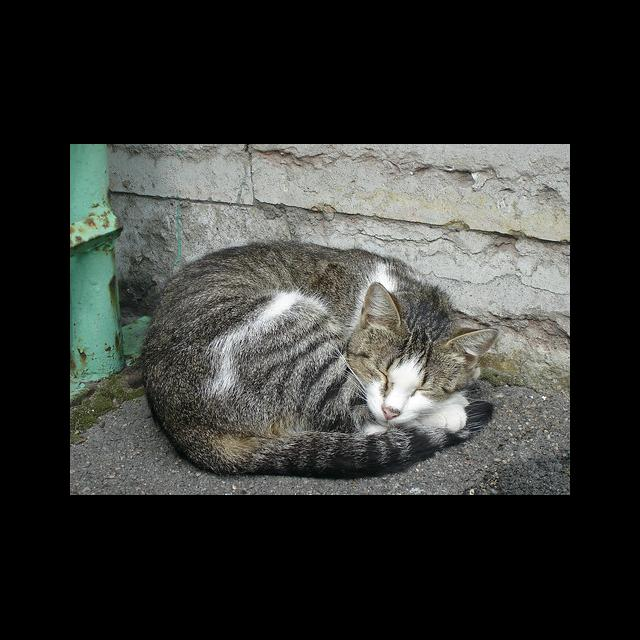animals: (143, 241, 493, 481)
